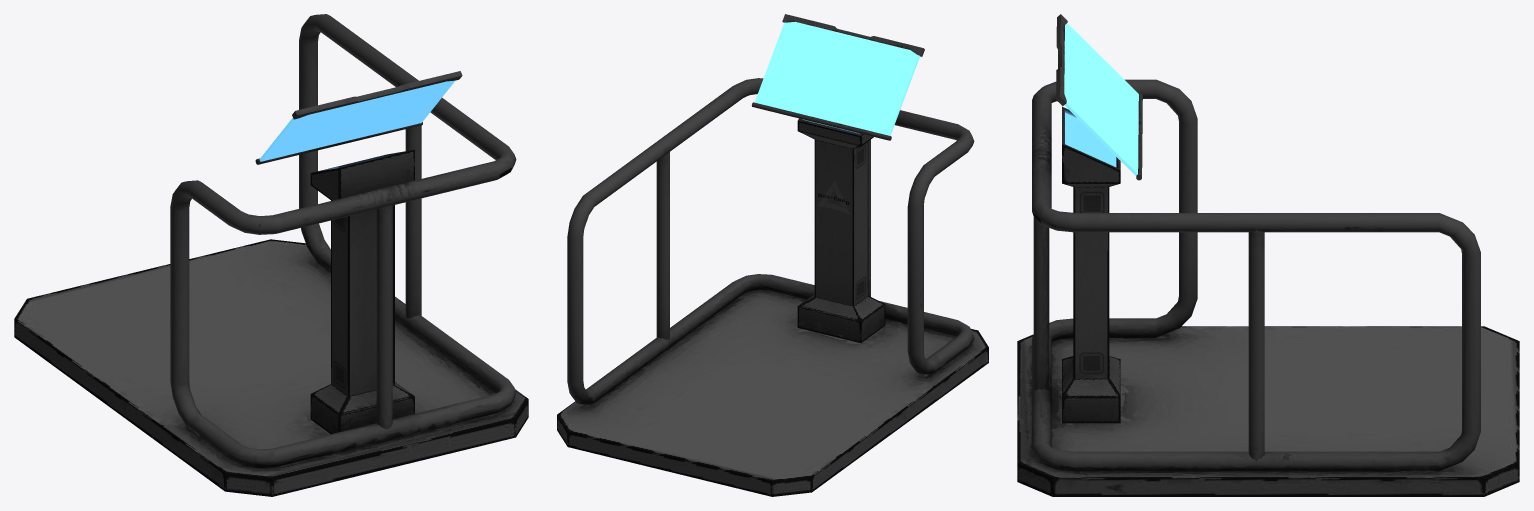
Rendered from elevator.glb.
3 views of the same model, side by side, from view 1: azimuth 30°, elevation 25°; view 2: azimuth 150°, elevation 25°; view 3: azimuth 270°, elevation 25° (orthographic). The views are drawn at different scales.
Visible parts, largest first — view 1: Elevator; view 2: Elevator; view 3: Elevator.
Boxes of the visible parts, box(x1,y1,x2,y2) form: Elevator: box(14, 14, 528, 496); Elevator: box(557, 14, 988, 496); Elevator: box(1017, 14, 1519, 496).
Size of what is drawn, in the model's own units: 1.12 by 1.27 by 1.56.
1 material, 1 textured.
